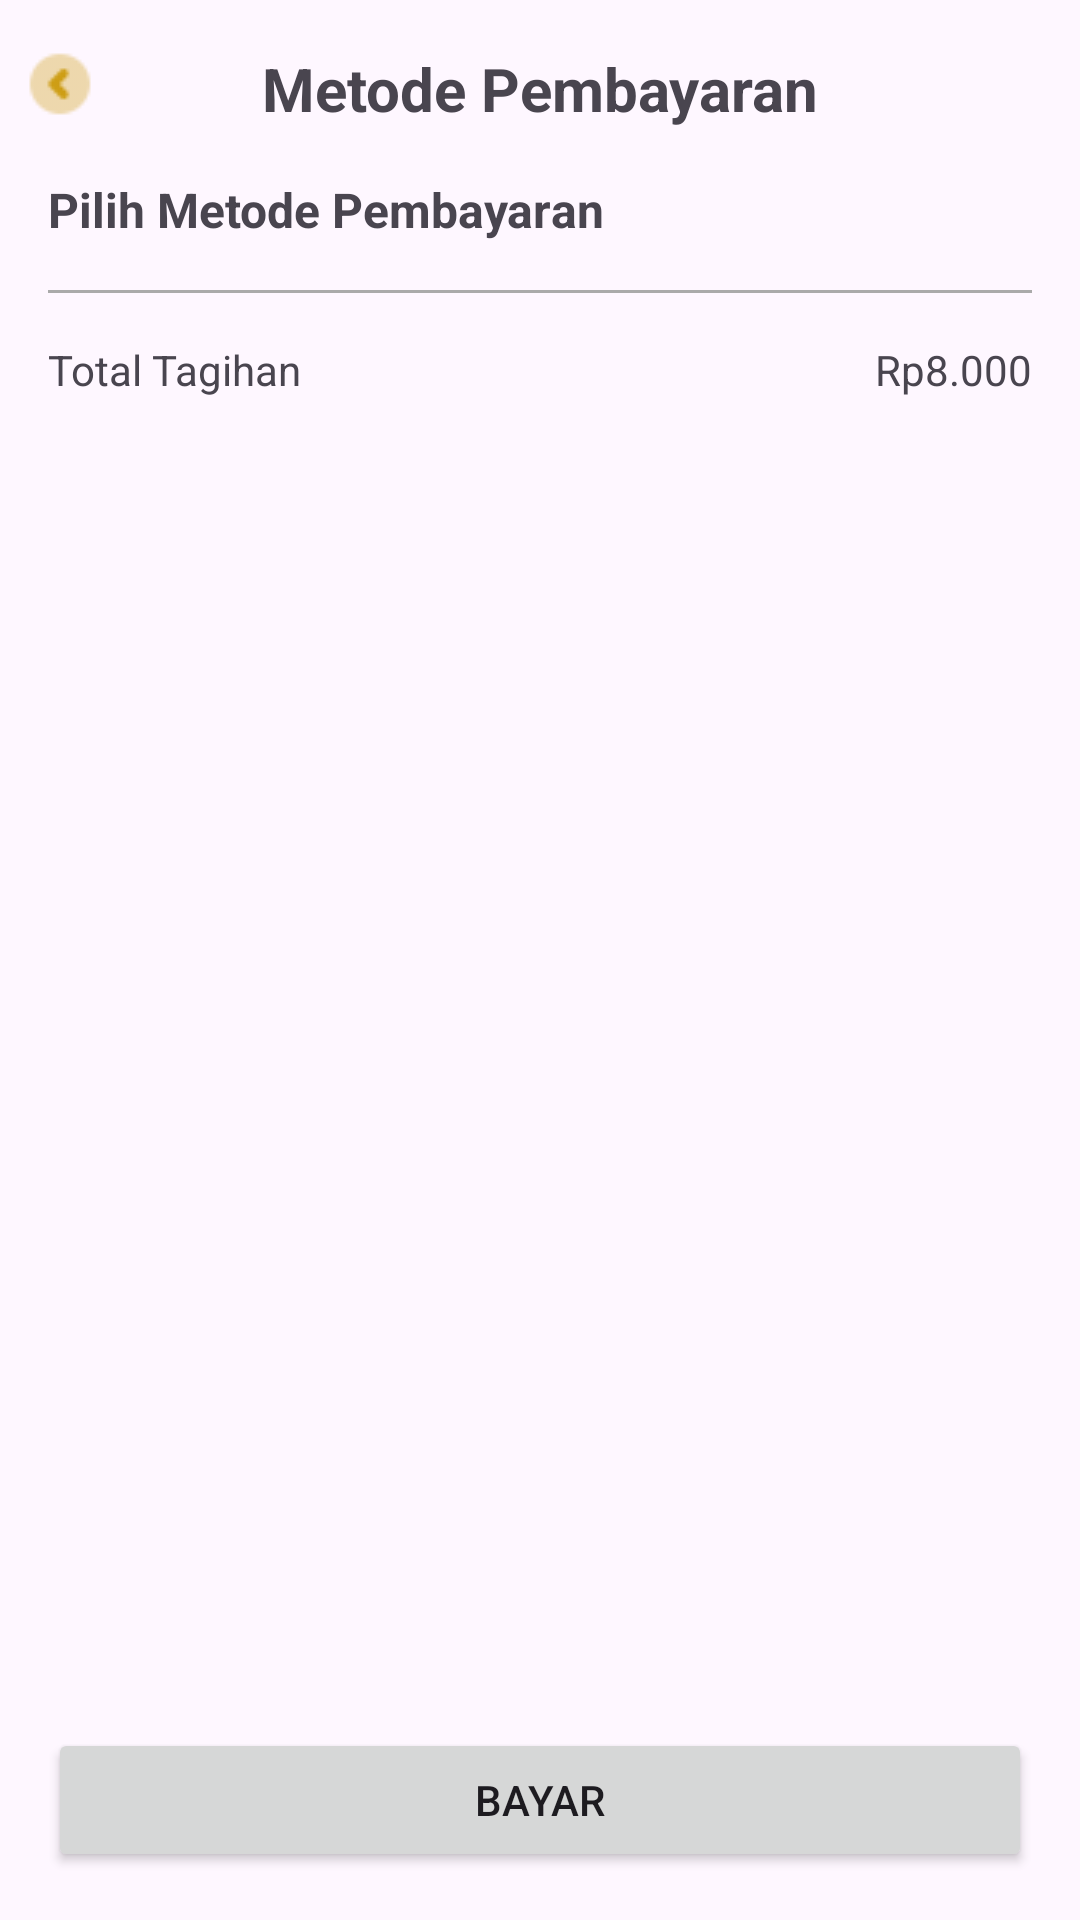

Icon click points for this 1080 x 1920 phone screenshot, format [x,y]:
arrow left: [60,84]
